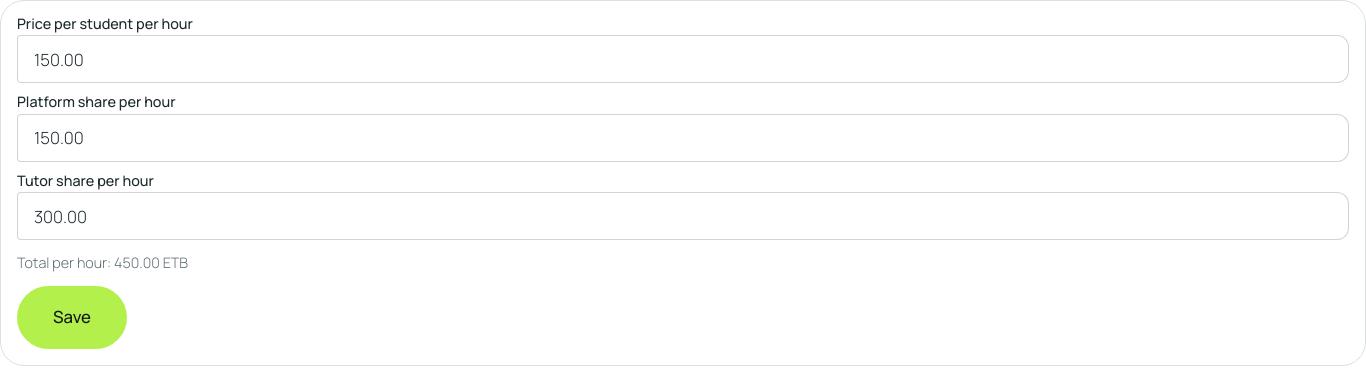
Test: PricingConfigForm › rejects malformed amounts
Replace the text in the field labelled "Price per student per hour" with "12,5" at (683, 59), box [17,35,1349,83]
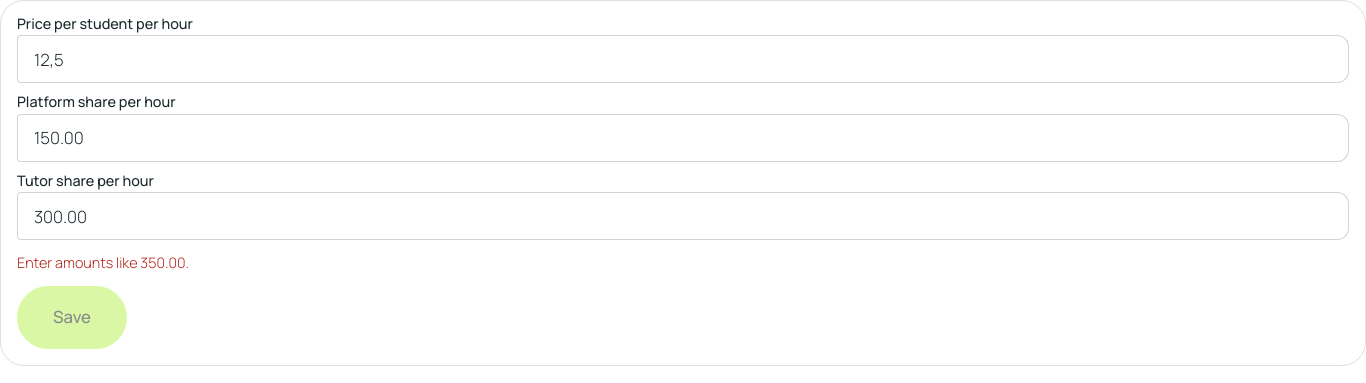
Expected: the button "Save" is disabled, [17,286,127,349]
Expected: the text "Enter amounts like 350.00." is shown, [17,253,189,272]
